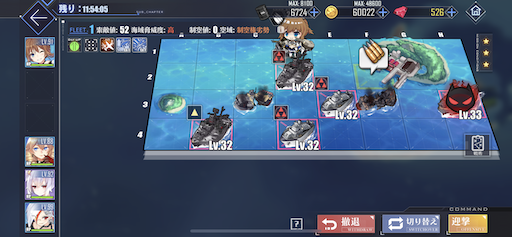boss: (434, 81, 478, 114)
lv1: (189, 106, 234, 149)
lv3: (274, 105, 318, 150), (314, 76, 360, 117), (270, 52, 312, 89)
